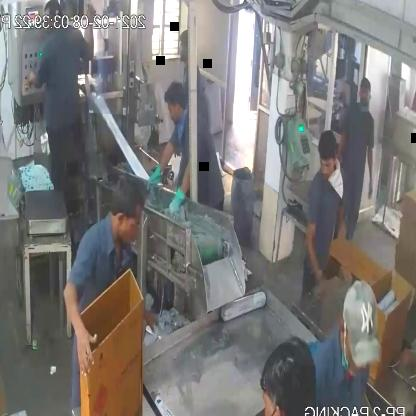no_glove: (63, 268, 96, 371), (297, 207, 328, 292), (356, 138, 380, 216)
